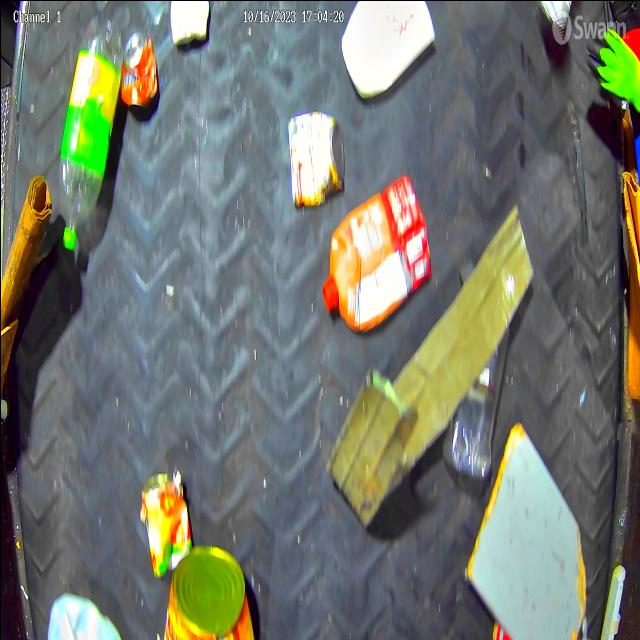can: (159, 545, 257, 640), (287, 110, 343, 206), (134, 466, 188, 558), (114, 29, 159, 98)
milk_jug: (342, 0, 428, 107)
non_white_jug: (314, 166, 430, 330)
plastic_bottle: (56, 27, 119, 245), (460, 362, 502, 478)
